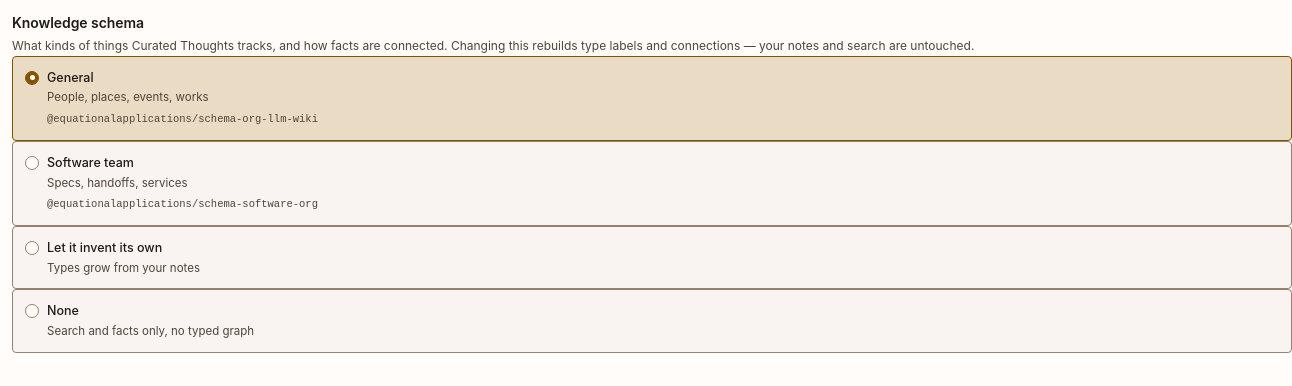
Test: OntologyPanel › restores the prior selection when the D6 sequence fails
The width and height of the screenshot is (1292, 386).
Click the radio button labelled "Software team" at (32, 163), box [25,156,39,170]
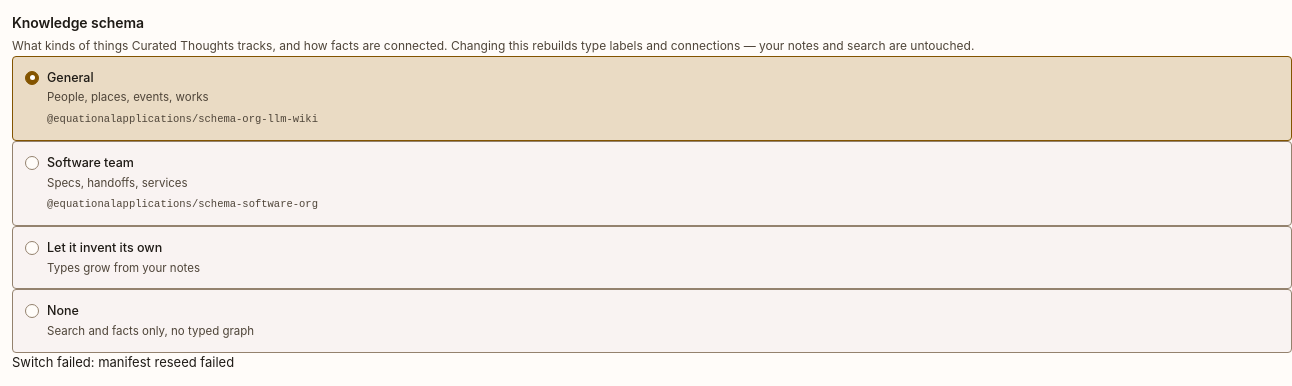
Check: the text "Switch failed: manifest reseed failed" is shown, box [12,354,234,370]
